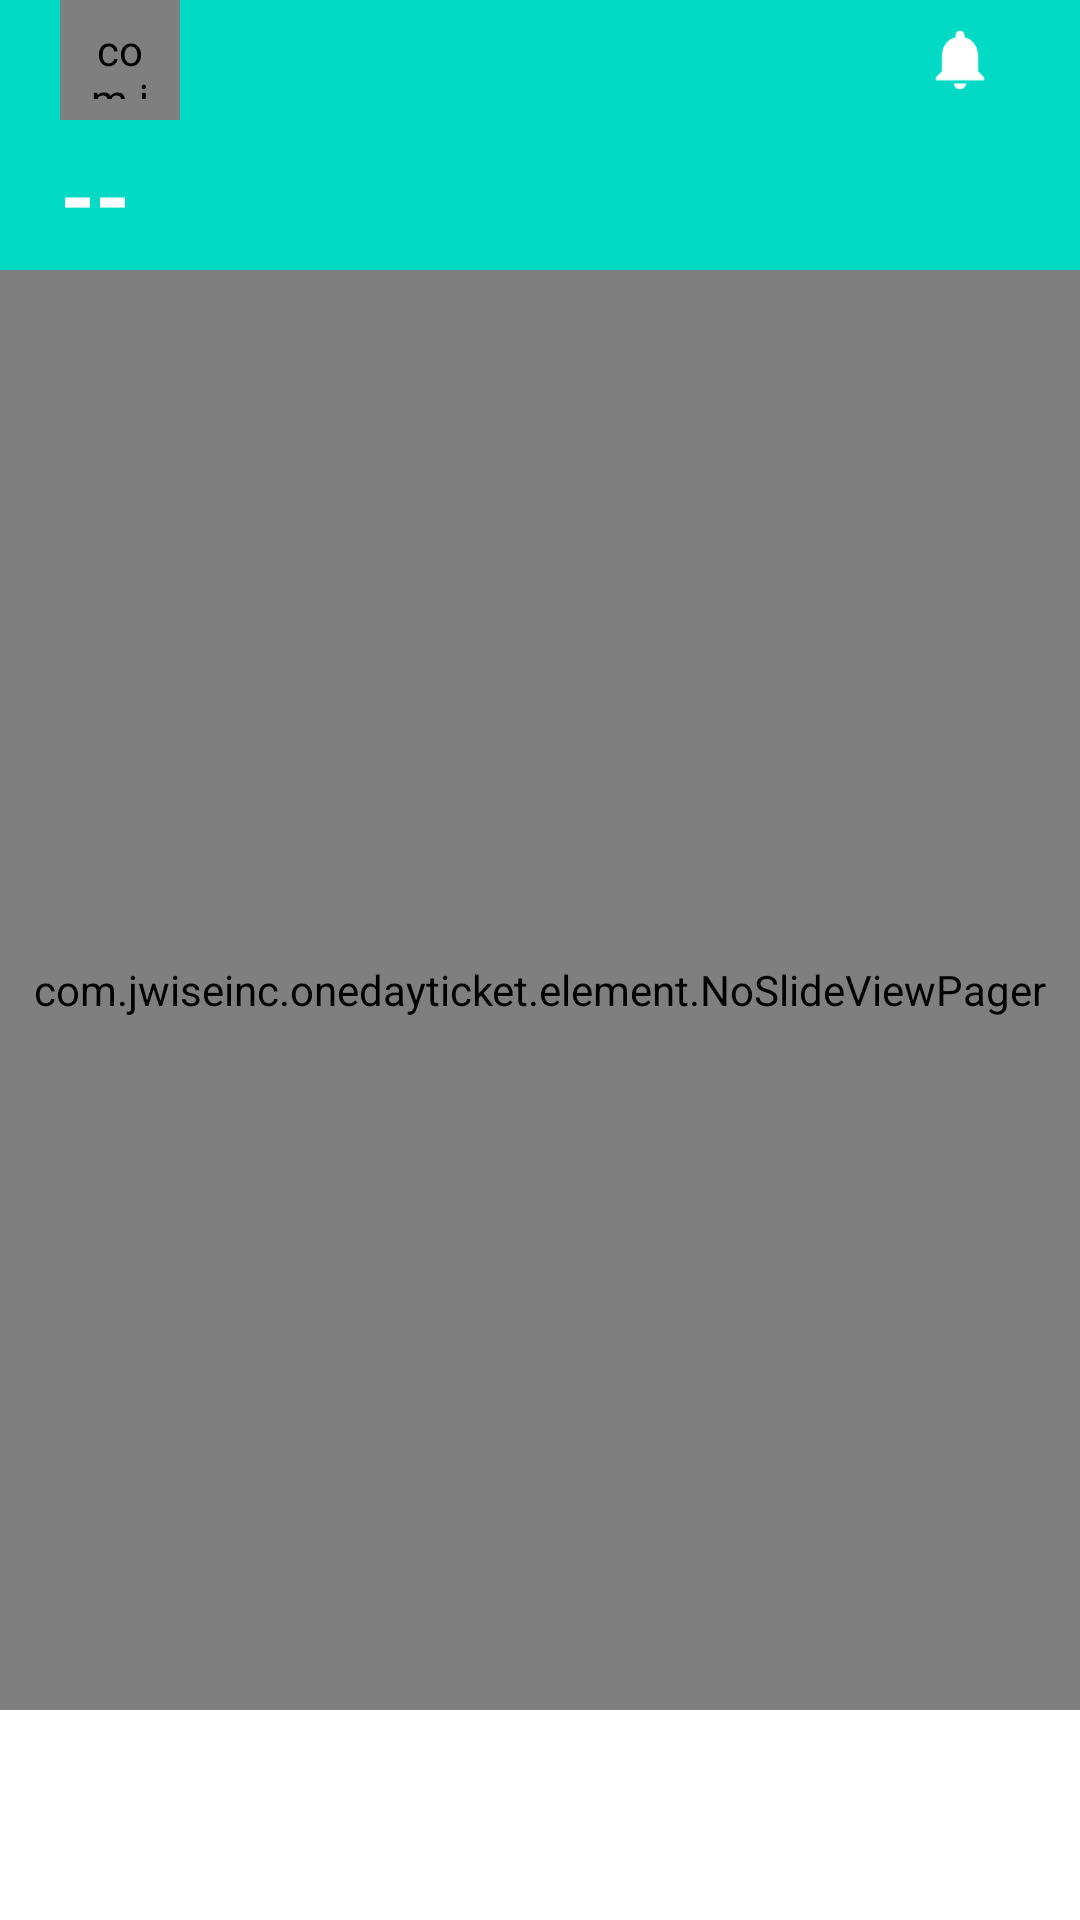

Locate icon controls on the screen. Image size 1080 × 1920, boxes as bbox(x1, y1, x2, y2).
notifications: bbox(935, 30, 985, 90)
